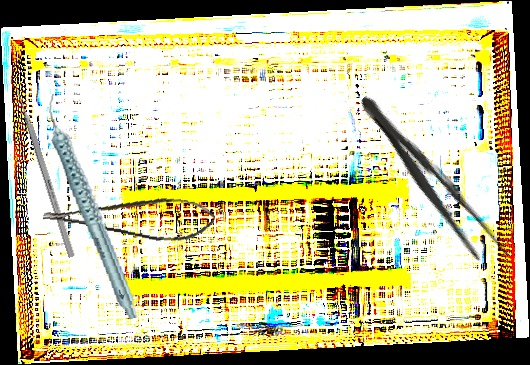Dressing Forceps: (348, 87, 514, 275)
Handpiece: (45, 86, 140, 327)
Micro Scissor: (42, 179, 217, 249)
Pusher: (10, 77, 76, 258)
